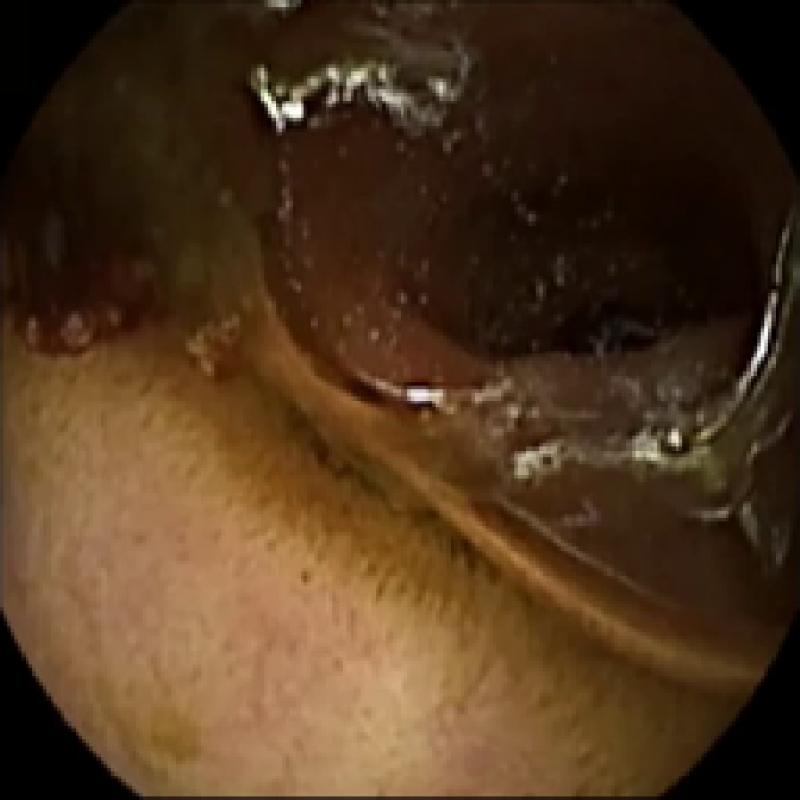bleeding: (0, 139, 171, 353)
